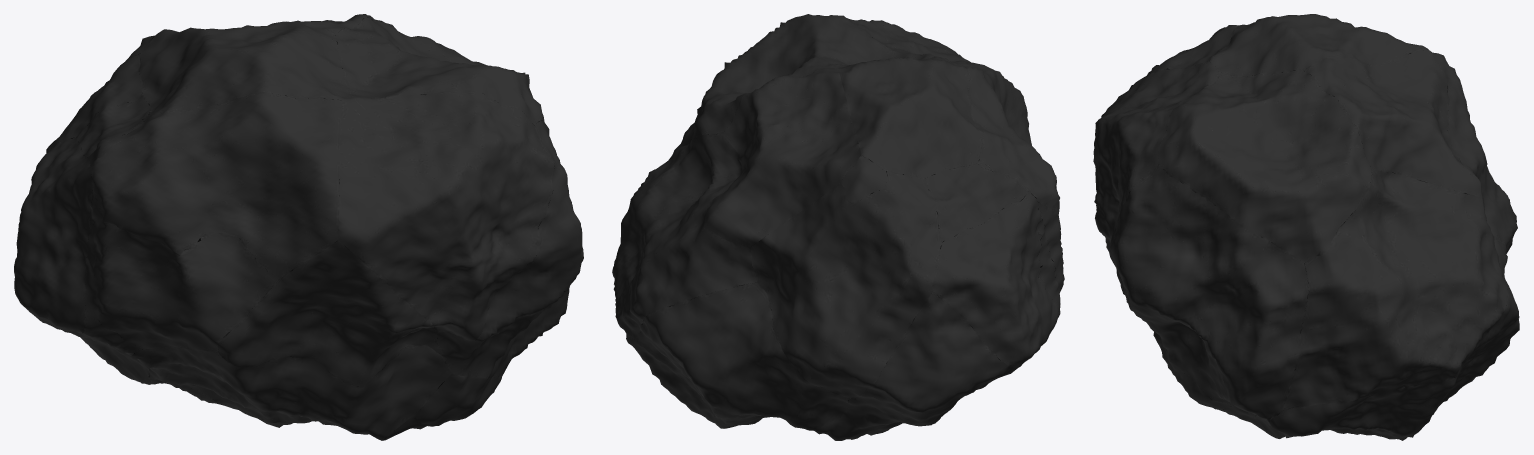
The model's file is fairedelespace.glb.
The picture shows the model from 3 angles, left to right: view 1: azimuth 30°, elevation 25°; view 2: azimuth 150°, elevation 25°; view 3: azimuth 270°, elevation 25°; orthographic projection. The views are drawn at different scales.
Parts seen in each view (by area): view 1: rock_mesh_001_cell_009-6.004, rock_mesh_001_cell_022-19.004, rock_mesh_001_cell_012-9.004, rock_mesh_001_cell_007-4.004, rock_mesh_001_cell_004-1.004, rock_mesh_001_cell_014-11.004, rock_mesh_001_cell_021-18.004, rock_mesh_001_cell_016-13.004, rock_mesh_001_cell_015-12.004, rock_mesh_001_cell_018-15.004, rock_mesh_001_cell_006-3.004, rock_mesh_001_cell_008-5.004 (+2 smaller); view 2: rock_mesh_001_cell_008-5.004, rock_mesh_001_cell_011-8.004, rock_mesh_001_cell_019-16.004, rock_mesh_001_cell_010-7.004, rock_mesh_001_cell_014-11.004, rock_mesh_001_cell_016-13.004, rock_mesh_001_cell_017-14.004, rock_mesh_001_cell_015-12.004, rock_mesh_001_cell_022-19.004, rock_mesh_001_cell_018-15.004, rock_mesh_001_cell_009-6.004, rock_mesh_001_cell_020-17.004 (+3 smaller); view 3: rock_mesh_001_cell_019-16.004, rock_mesh_001_cell_021-18.004, rock_mesh_001_cell_015-12.004, rock_mesh_001_cell_011-8.004, rock_mesh_001_cell_009-6.004, rock_mesh_001_cell_014-11.004, rock_mesh_001_cell_003-0.004, rock_mesh_001_cell_008-5.004, rock_mesh_001_cell_010-7.004, rock_mesh_001_cell_022-19.004, rock_mesh_001_cell_006-3.004.
Boxes of the visible parts, x1,y1,x2,y2 form: rock_mesh_001_cell_009-6.004: (338, 91, 554, 340); rock_mesh_001_cell_022-19.004: (91, 92, 341, 278); rock_mesh_001_cell_012-9.004: (218, 240, 441, 386); rock_mesh_001_cell_007-4.004: (92, 121, 278, 352); rock_mesh_001_cell_004-1.004: (132, 344, 451, 440); rock_mesh_001_cell_014-11.004: (139, 20, 351, 121); rock_mesh_001_cell_021-18.004: (437, 119, 583, 378); rock_mesh_001_cell_016-13.004: (14, 137, 92, 333); rock_mesh_001_cell_015-12.004: (334, 17, 543, 124); rock_mesh_001_cell_018-15.004: (76, 96, 151, 356); rock_mesh_001_cell_006-3.004: (415, 373, 501, 426); rock_mesh_001_cell_008-5.004: (46, 54, 144, 153); rock_mesh_001_cell_008-5.004: (750, 171, 941, 398); rock_mesh_001_cell_011-8.004: (703, 68, 861, 247); rock_mesh_001_cell_019-16.004: (612, 133, 756, 338); rock_mesh_001_cell_010-7.004: (633, 282, 849, 431); rock_mesh_001_cell_014-11.004: (838, 53, 982, 178); rock_mesh_001_cell_016-13.004: (933, 193, 1059, 366); rock_mesh_001_cell_017-14.004: (854, 291, 1022, 426); rock_mesh_001_cell_015-12.004: (676, 14, 903, 148); rock_mesh_001_cell_022-19.004: (934, 56, 1059, 212); rock_mesh_001_cell_018-15.004: (925, 163, 1060, 313); rock_mesh_001_cell_009-6.004: (851, 19, 1023, 96); rock_mesh_001_cell_020-17.004: (816, 398, 903, 440); rock_mesh_001_cell_019-16.004: (1283, 170, 1507, 409); rock_mesh_001_cell_021-18.004: (1110, 165, 1308, 421); rock_mesh_001_cell_015-12.004: (1158, 70, 1371, 262); rock_mesh_001_cell_011-8.004: (1304, 49, 1482, 197); rock_mesh_001_cell_009-6.004: (1093, 61, 1221, 284); rock_mesh_001_cell_014-11.004: (1209, 14, 1428, 76); rock_mesh_001_cell_003-0.004: (1247, 375, 1458, 440); rock_mesh_001_cell_008-5.004: (1447, 78, 1517, 253); rock_mesh_001_cell_010-7.004: (1435, 237, 1519, 411); rock_mesh_001_cell_022-19.004: (1128, 25, 1238, 90); rock_mesh_001_cell_006-3.004: (1153, 333, 1233, 409).
Bounding box in the file's own units: 3.21 × 2.66 × 2.9.
20 materials, 20 textured.
